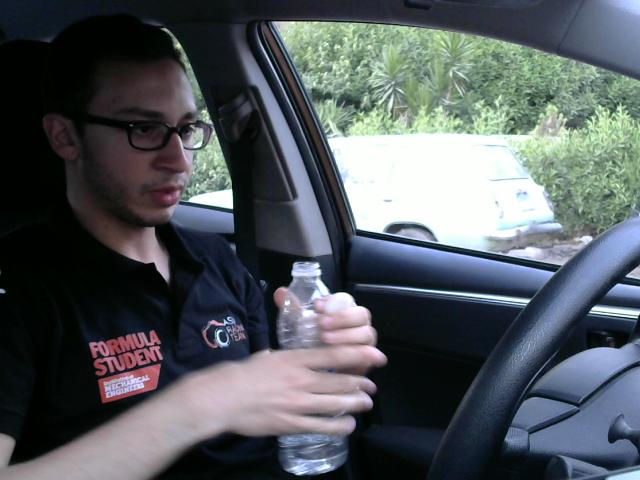Drinking: (270, 259, 367, 480)
